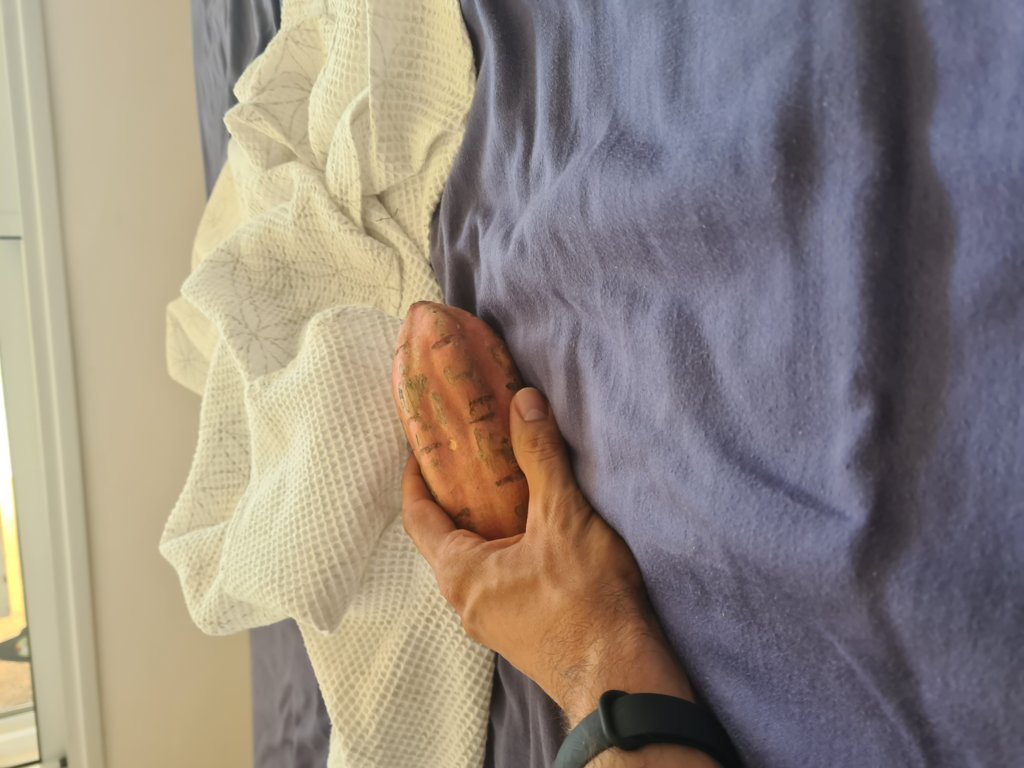Sweet Potatow: (408, 305, 534, 529)
